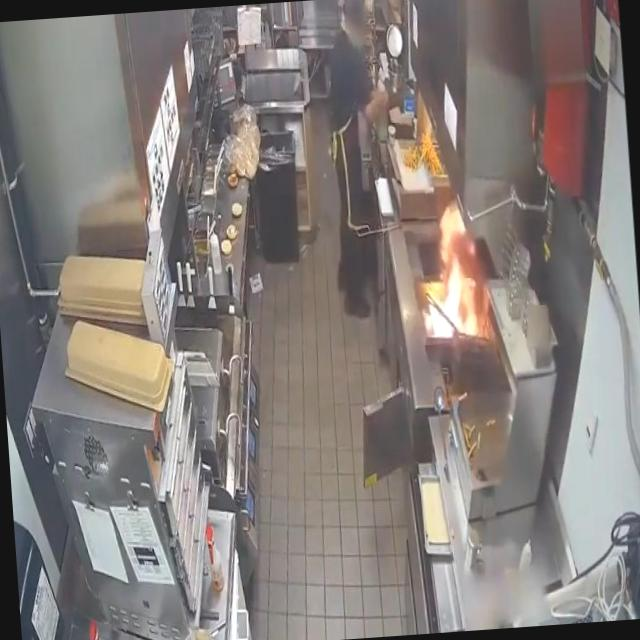fire: (410, 198, 499, 364)
